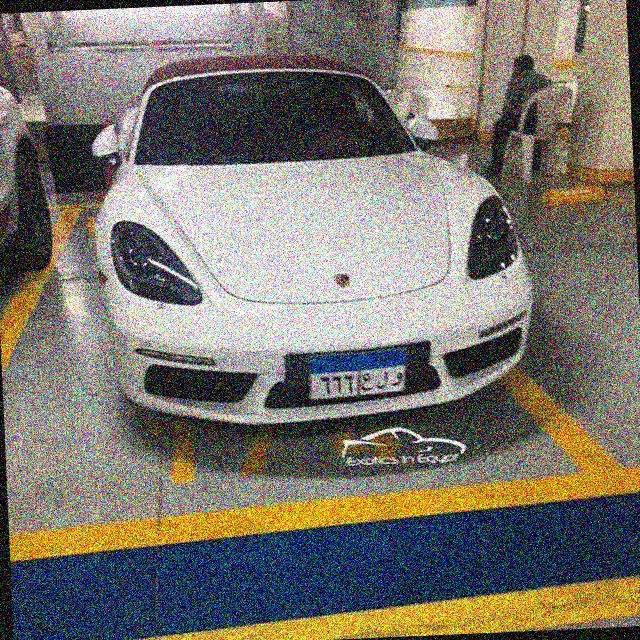License Plate: (301, 346, 413, 405)
